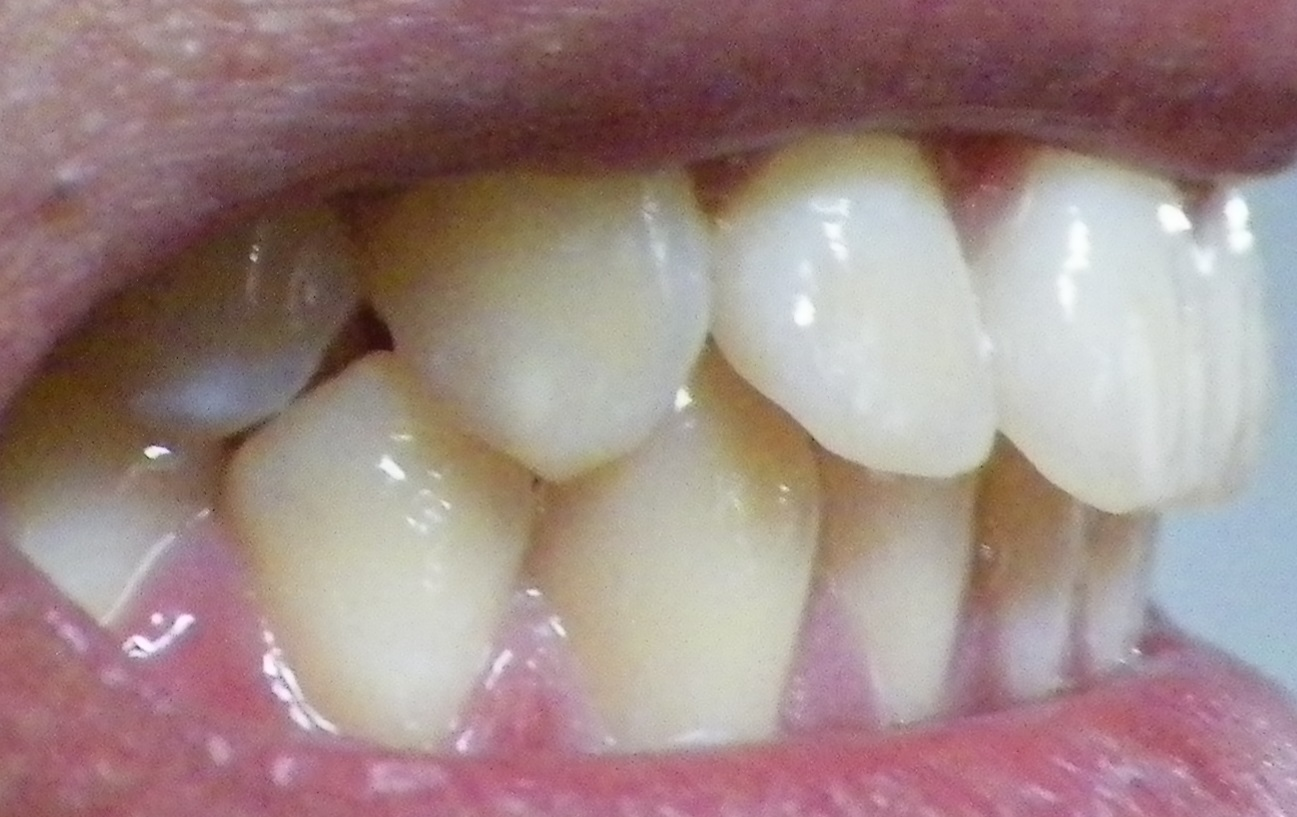boca: (36, 141, 1266, 748)
